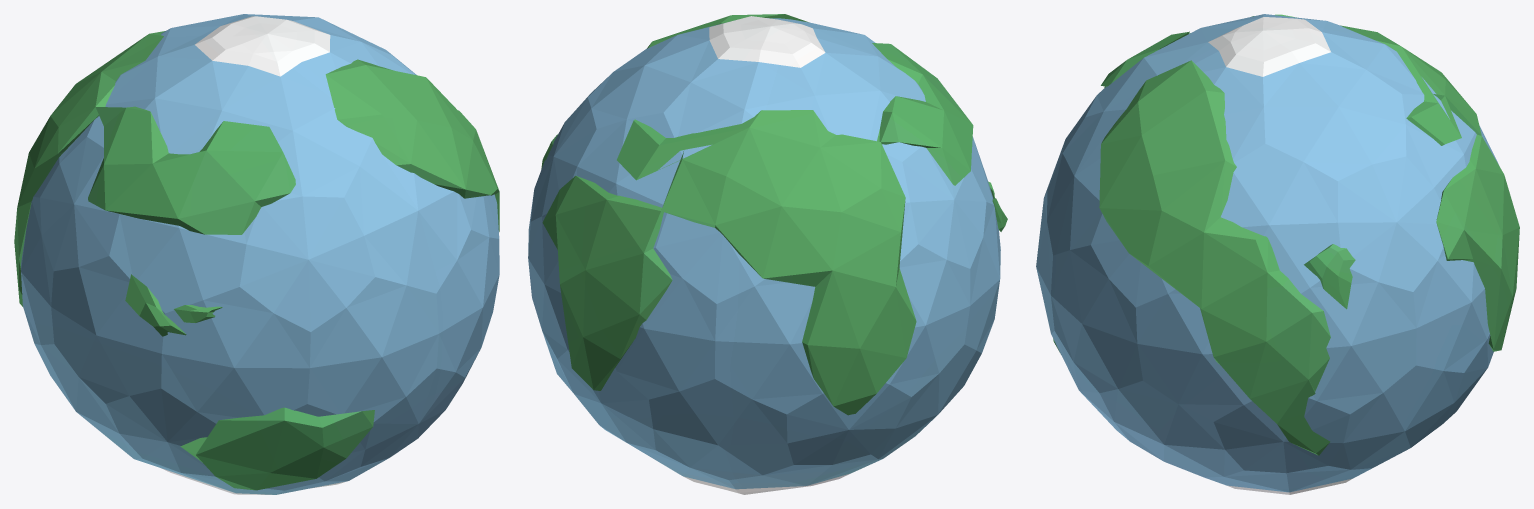
File: 88CP80Kgb-u.glb
The picture shows the model from 3 angles, left to right: view 1: azimuth 30°, elevation 25°; view 2: azimuth 150°, elevation 25°; view 3: azimuth 270°, elevation 25°; orthographic projection.
Parts seen in each view (by area): view 1: Icosphere_Icosphere.001; view 2: Icosphere_Icosphere.001; view 3: Icosphere_Icosphere.001.
Boxes of the visible parts, x1,y1,x2,y2 form: Icosphere_Icosphere.001: (14, 14, 499, 494); Icosphere_Icosphere.001: (528, 14, 1007, 494); Icosphere_Icosphere.001: (1036, 14, 1519, 494).
Size of the model in its own units: 0.9827 by 1 by 0.9832.
1 material, 1 textured.
